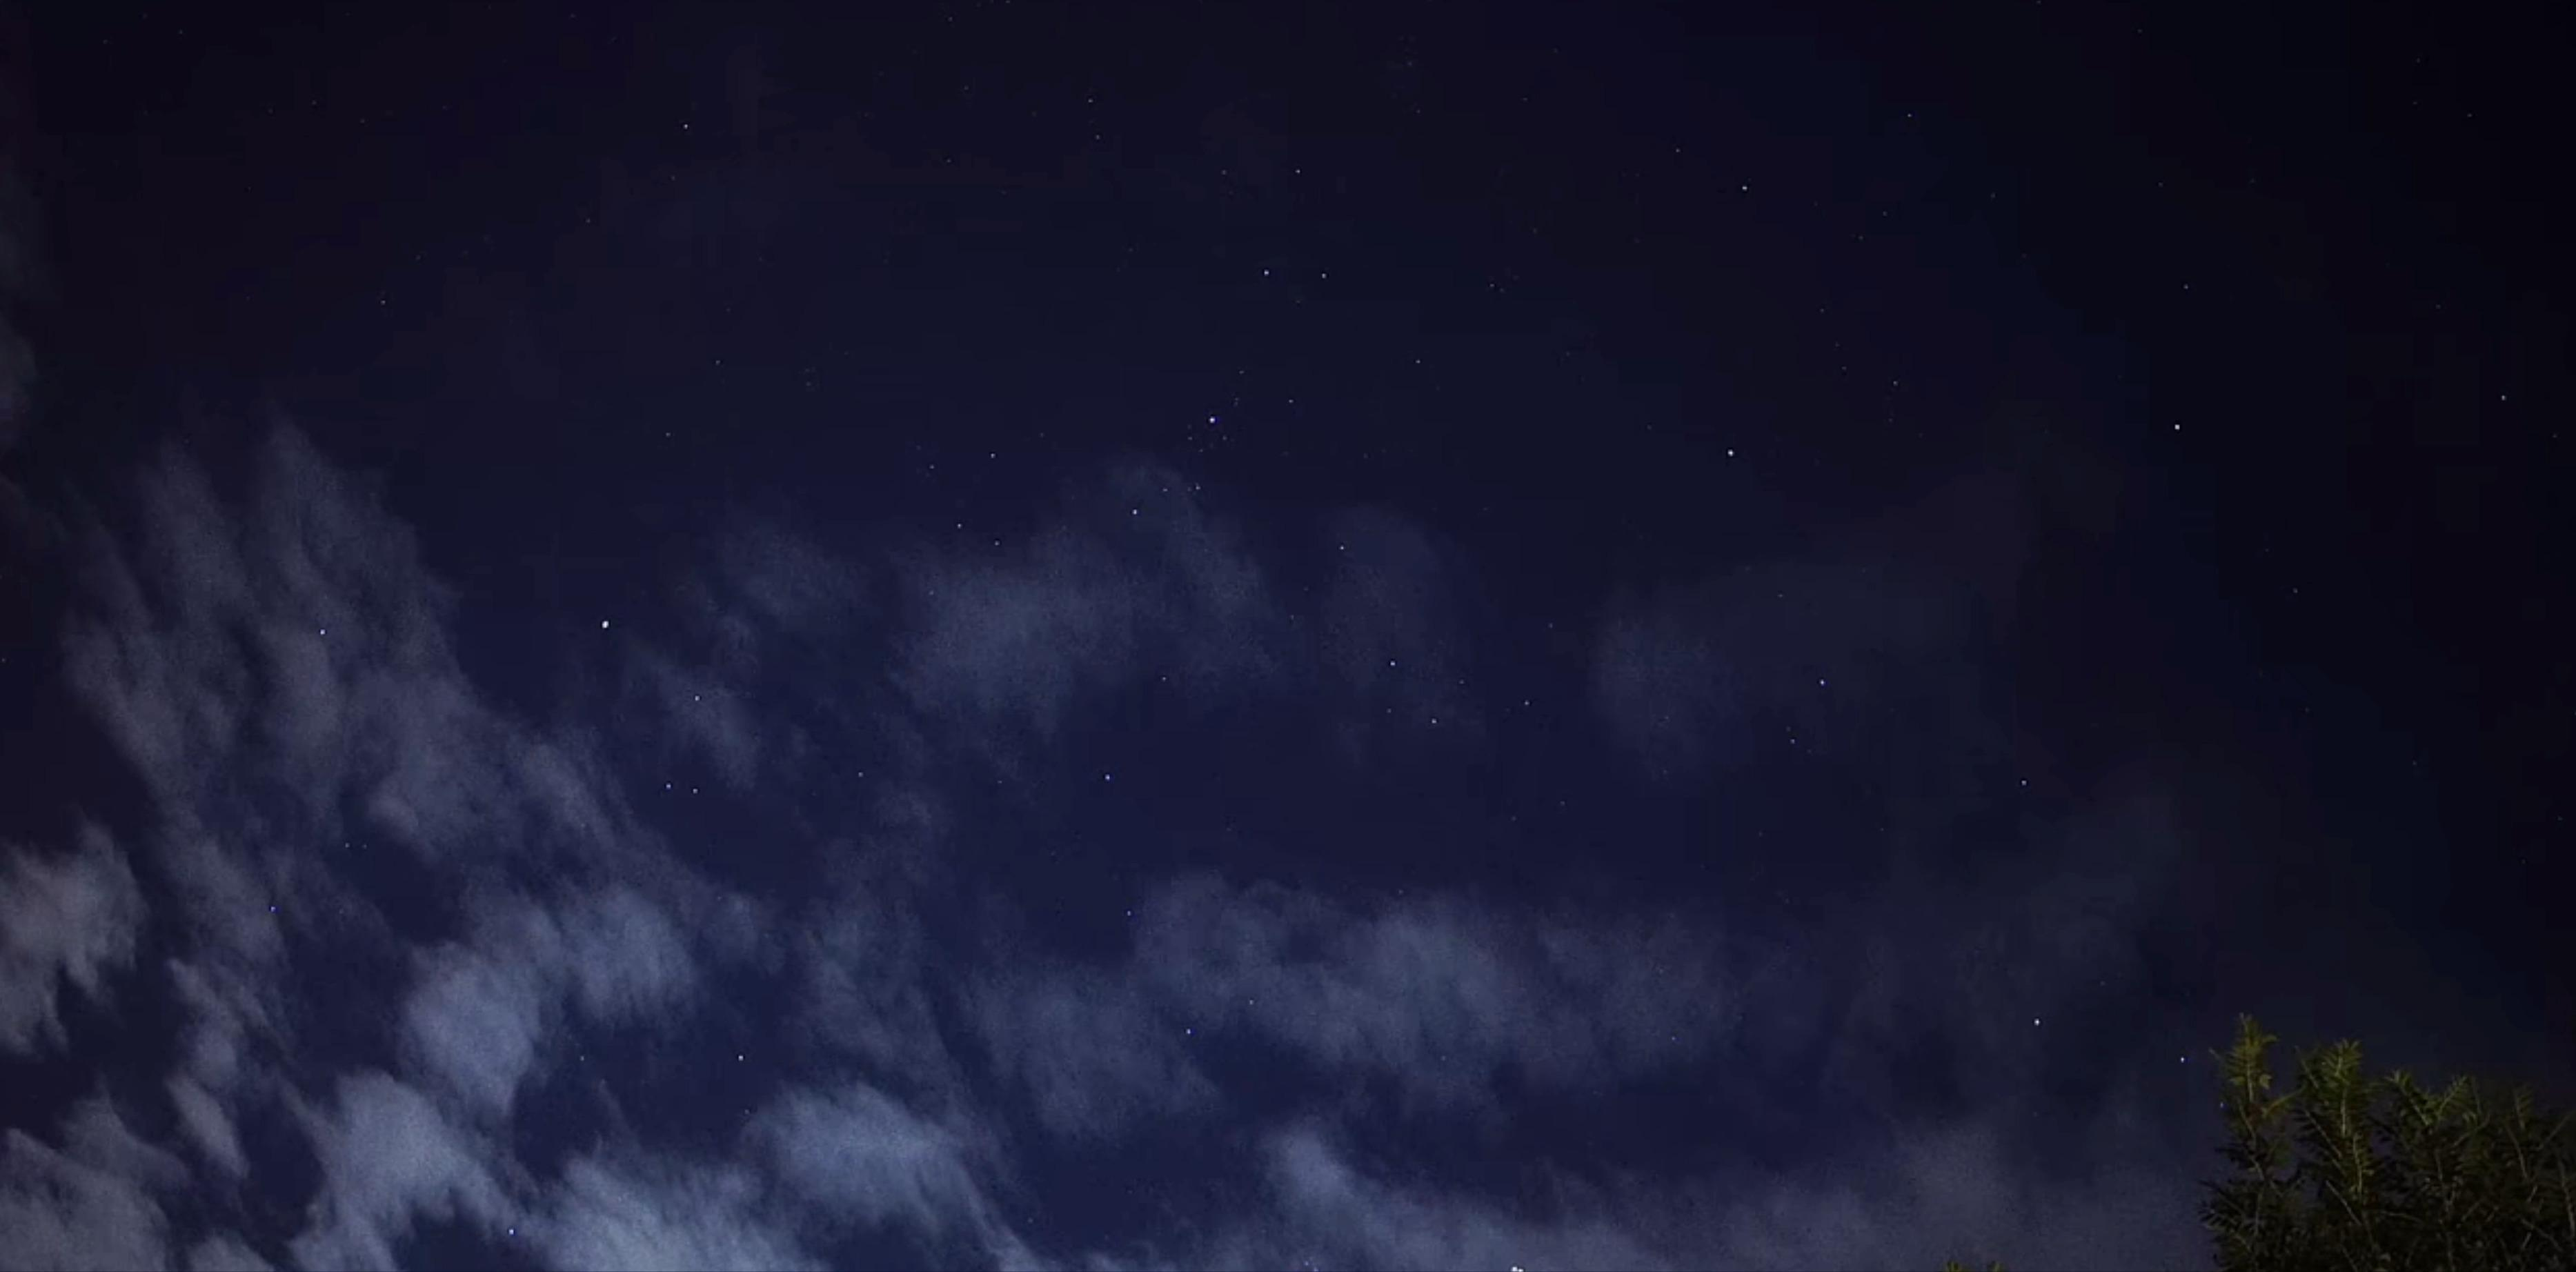Plane: (1497, 1251, 1549, 1272)
